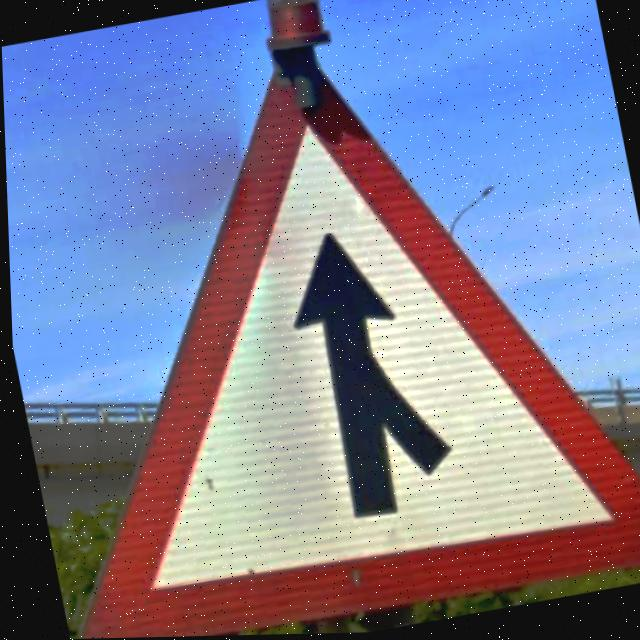rightmerge: (76, 48, 640, 639)
